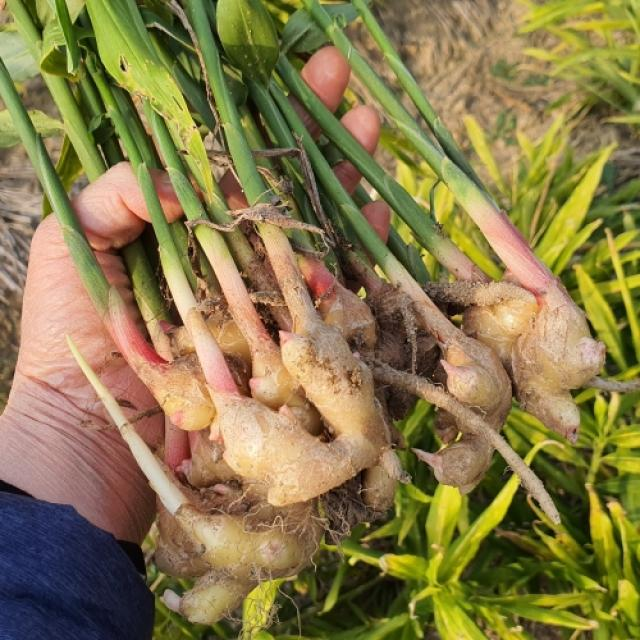ginger: (59, 278, 594, 578)
